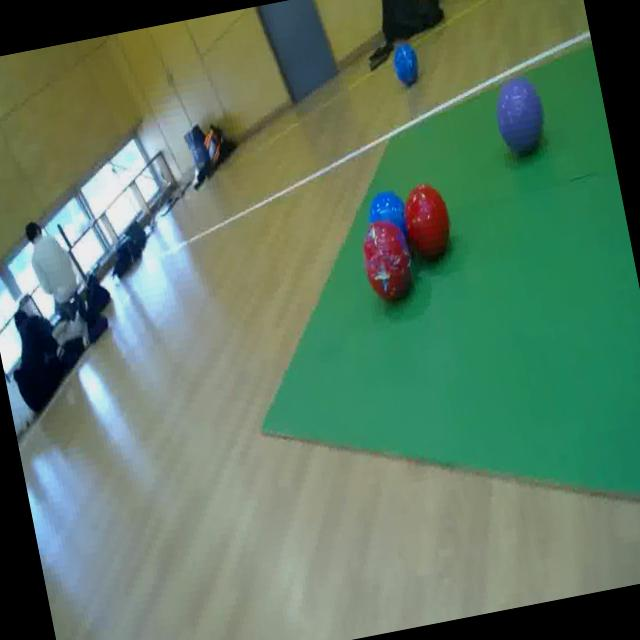blue_ball: (366, 188, 416, 264), (388, 40, 424, 92)
purple_ball: (488, 67, 554, 162)
red_ball: (356, 214, 421, 310), (397, 176, 461, 270)
